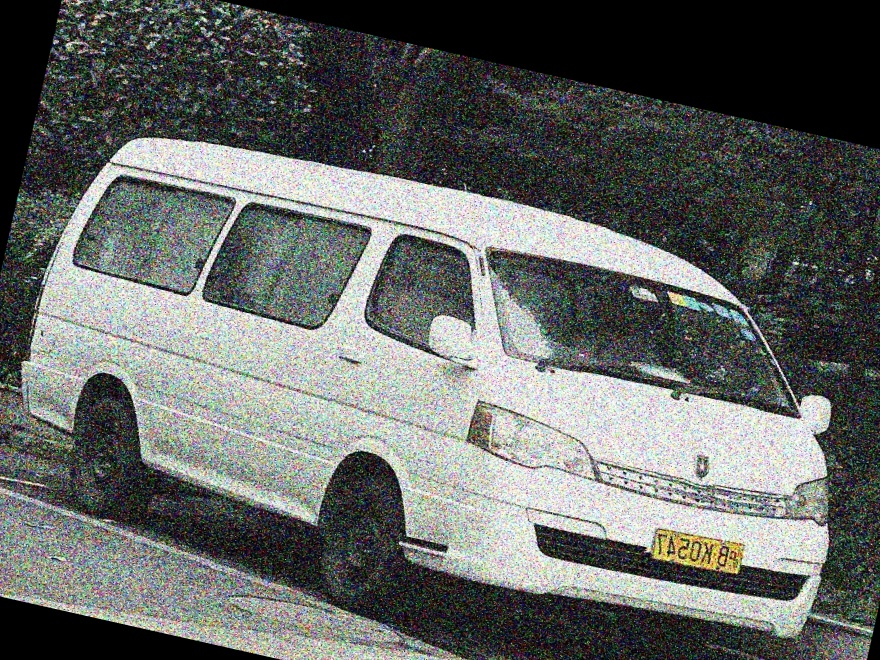van: (0, 93, 880, 660)
